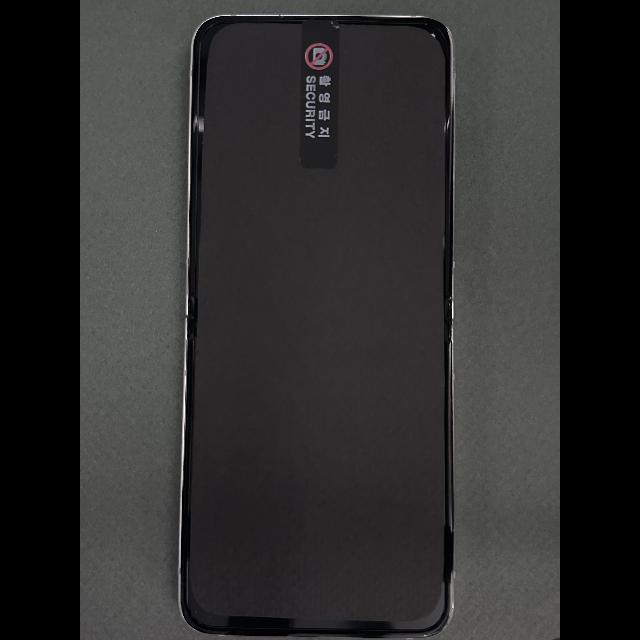phone: (178, 14, 456, 639)
sticker: (299, 19, 340, 169)
